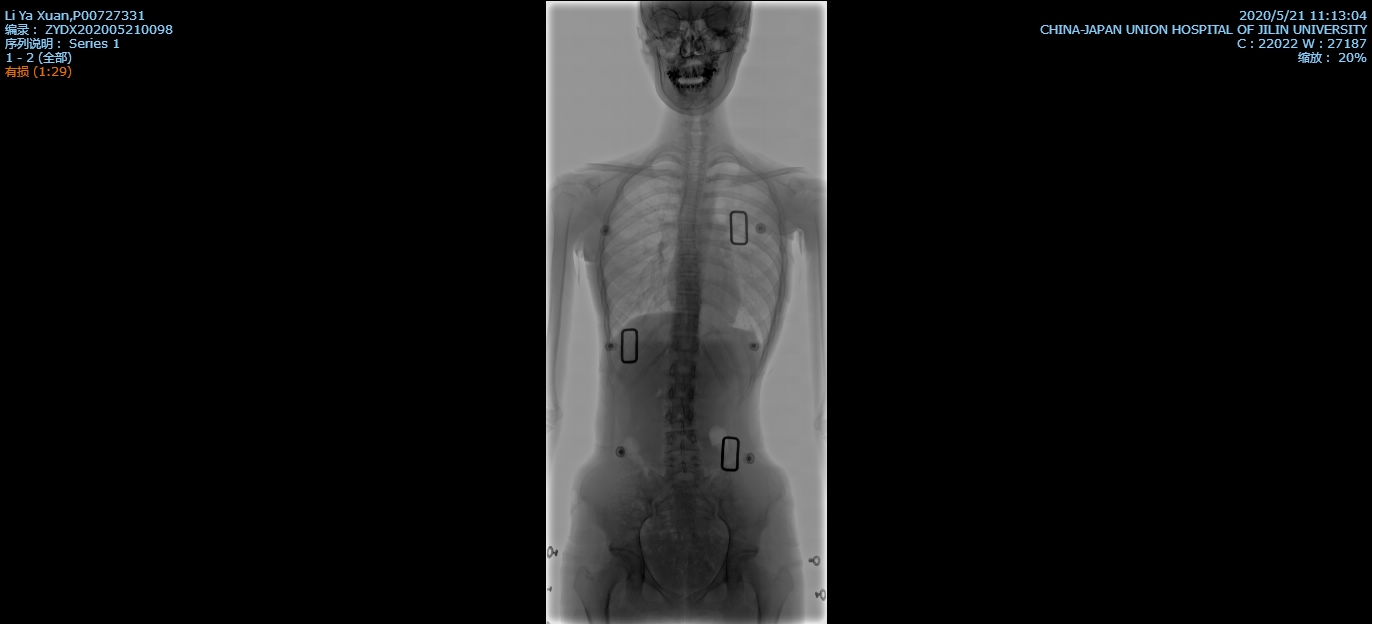Bone: (667, 455, 702, 477), (664, 406, 693, 425), (663, 430, 695, 447), (666, 382, 694, 401), (672, 335, 697, 353), (670, 360, 695, 377), (676, 274, 700, 290), (672, 313, 697, 328), (675, 293, 699, 308), (678, 257, 696, 271), (677, 241, 697, 252), (678, 224, 695, 236)
